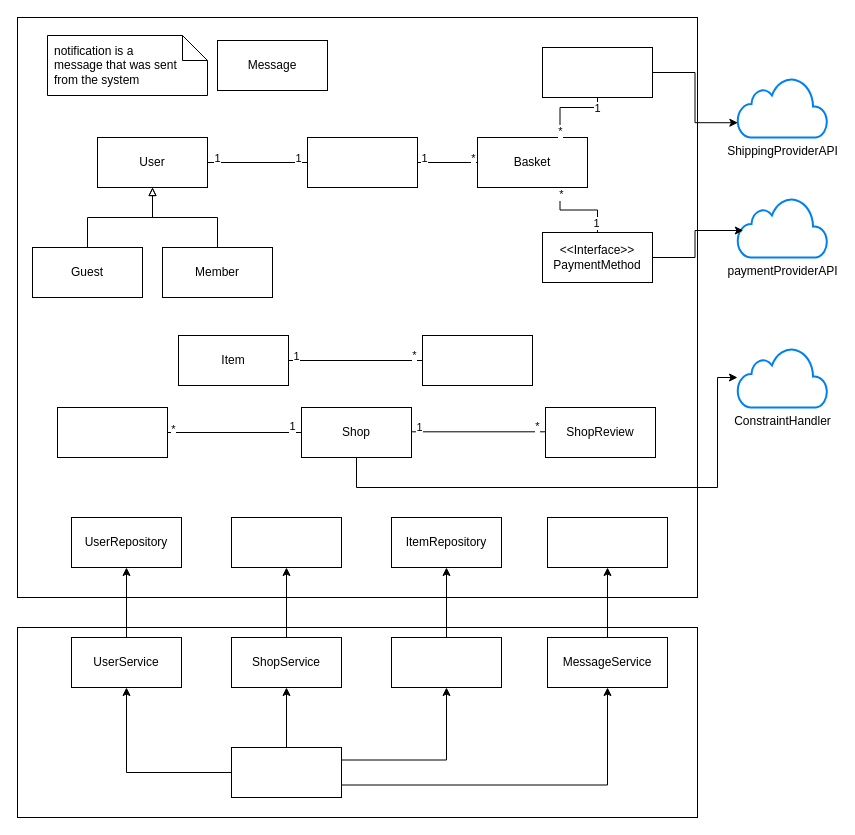
Image size: 855x835. Some labels were removed from this diagram. Here are the shapes that lost their labels. From the top down, the centre of each, then its label:
point 597,72: <<Interface>> ShippingMethod
point 362,162: ShoppingCart
point 477,360: ItemReview
point 112,432: Bid
point 286,542: ShopRepository
point 607,542: MessageRepository
point 446,662: ItemService
point 286,772: System
